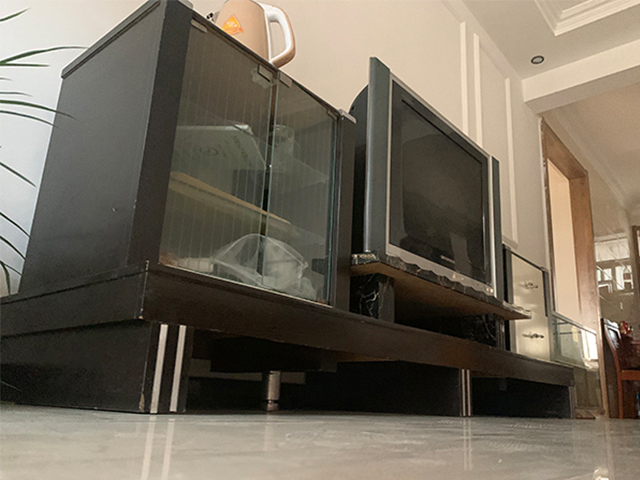cabinet: (1, 1, 578, 420)
stool: (601, 317, 640, 420)
